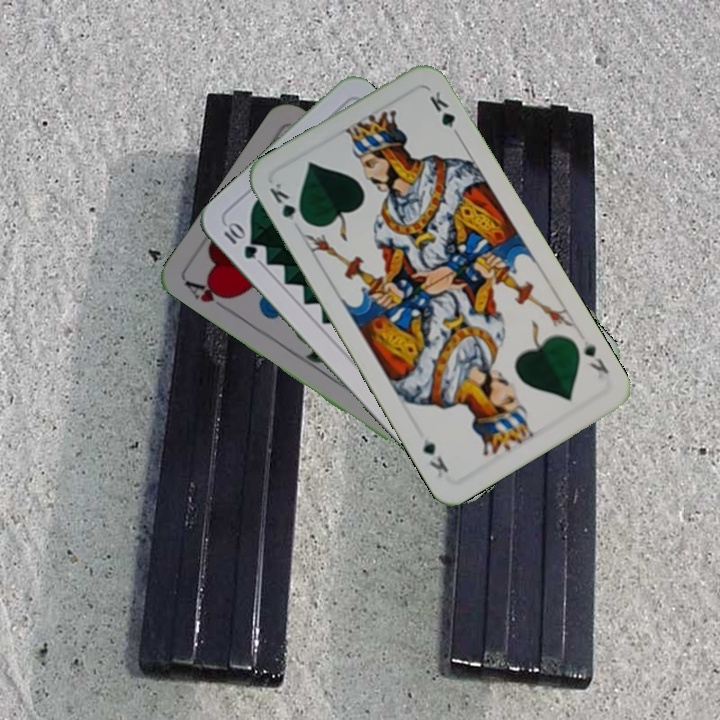G10: (219, 218, 260, 262)
GK: (265, 178, 309, 227), (579, 336, 612, 377)
HA: (181, 276, 235, 316)
